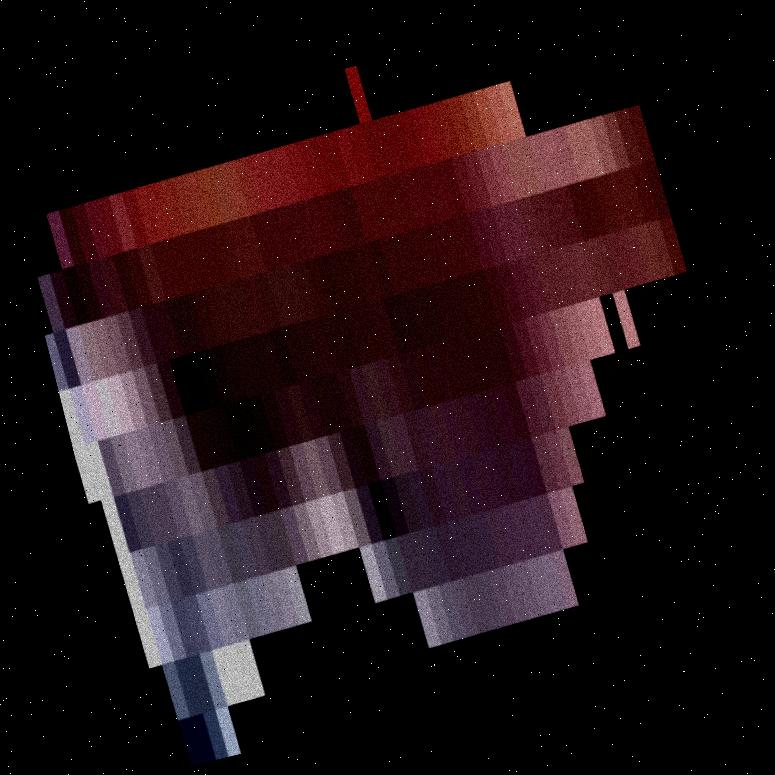Oculos: (213, 0, 576, 774)
